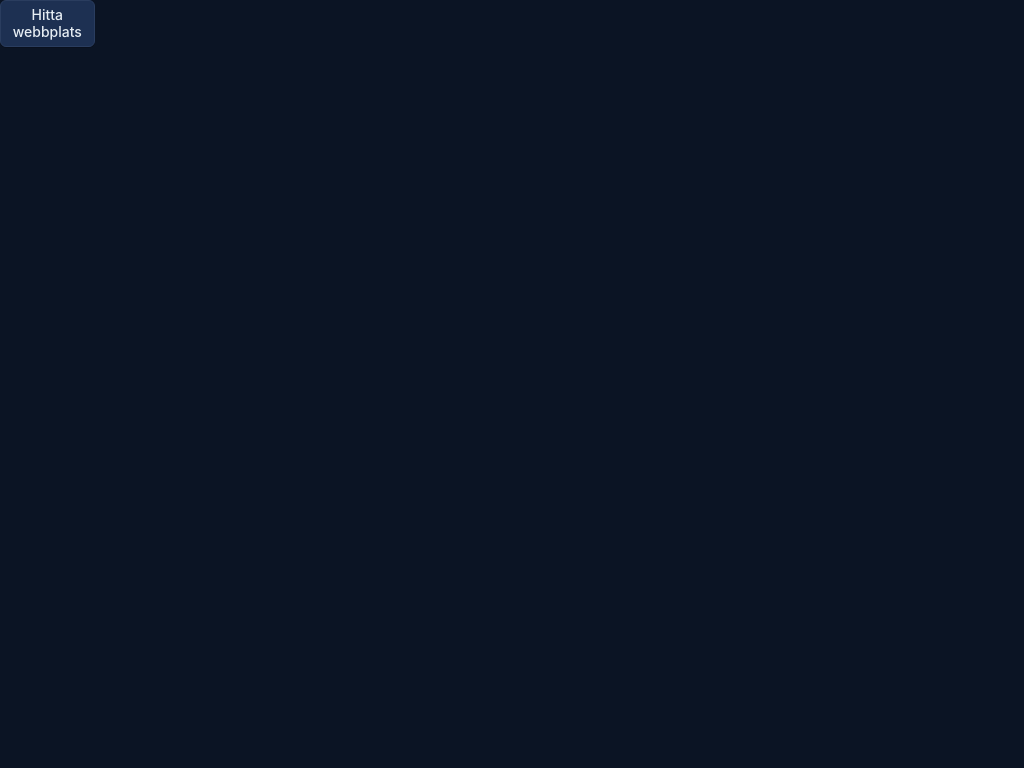
Test: FindWebsiteAction › shows the empty message and still offers a pasted address
The width and height of the screenshot is (1024, 768).
Later steps or results of the test are not shown.
Click the button "Hitta webbplats" at (47, 23), box [0,0,94,47]
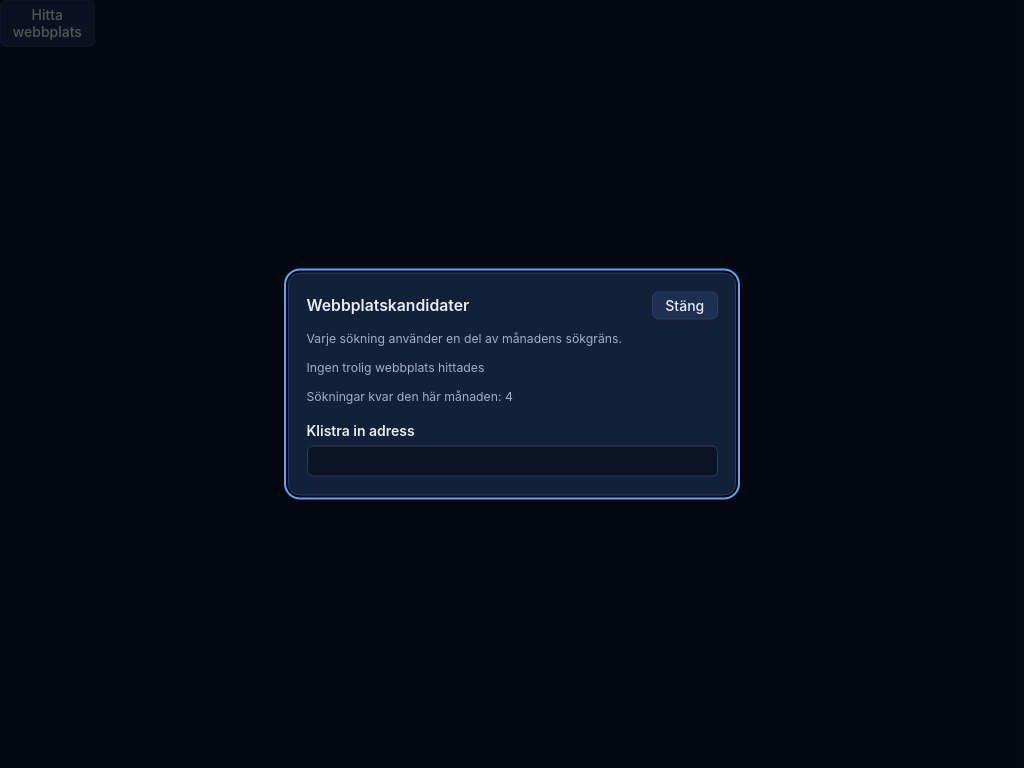
expect the text "Ingen trolig webbplats hittades" is shown: met, box [306,359,484,374]
expect the field labelled "Klistra in adress" is shown: met
Type "not a url" into the field labelled "Klistra in adress" at (512, 461), box [306,446,718,477]
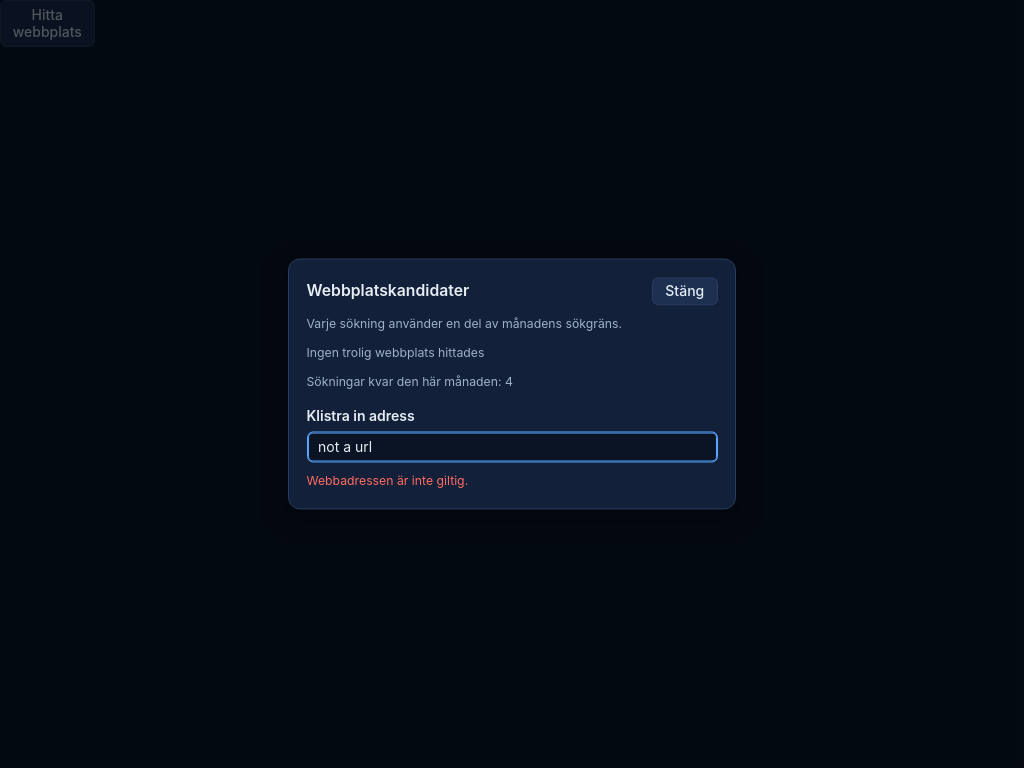
expect the text "Webbadressen är inte giltig." is shown: met, box [306,474,468,489]
